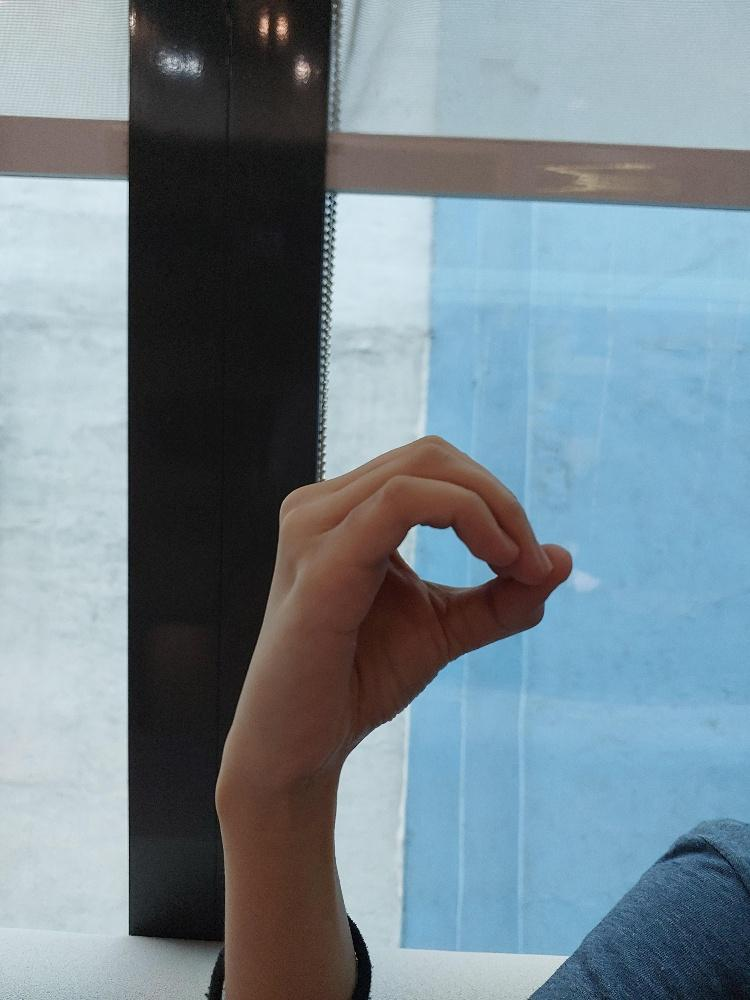o: (275, 433, 572, 785)
